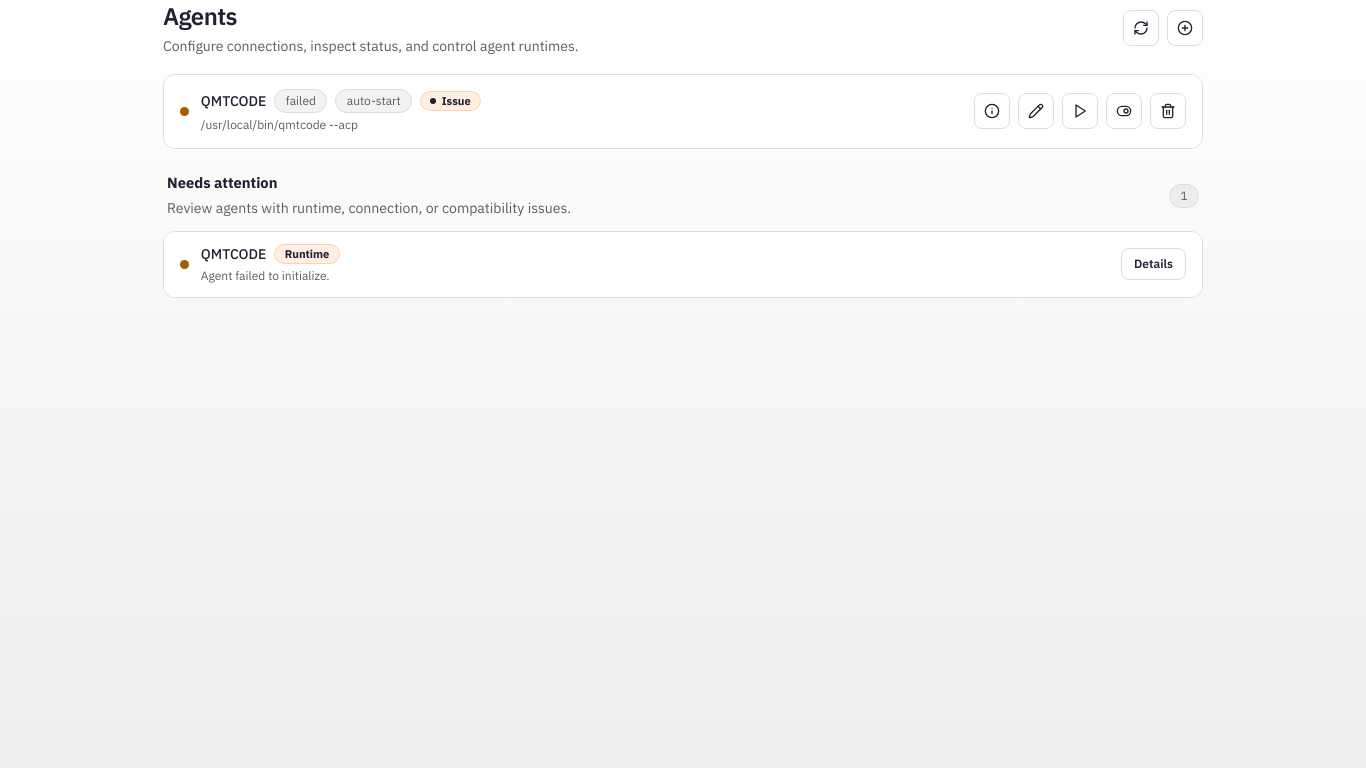
Scenario: Agents page › shows unique actionable diagnostics when ACP control is failing
Expected: the element with class "status-dot-degraded" below "auto-start" is shown, [180,107,189,116]
Click the button named "Details for QMTCODE" at (992, 111), box [974,93,1010,129]
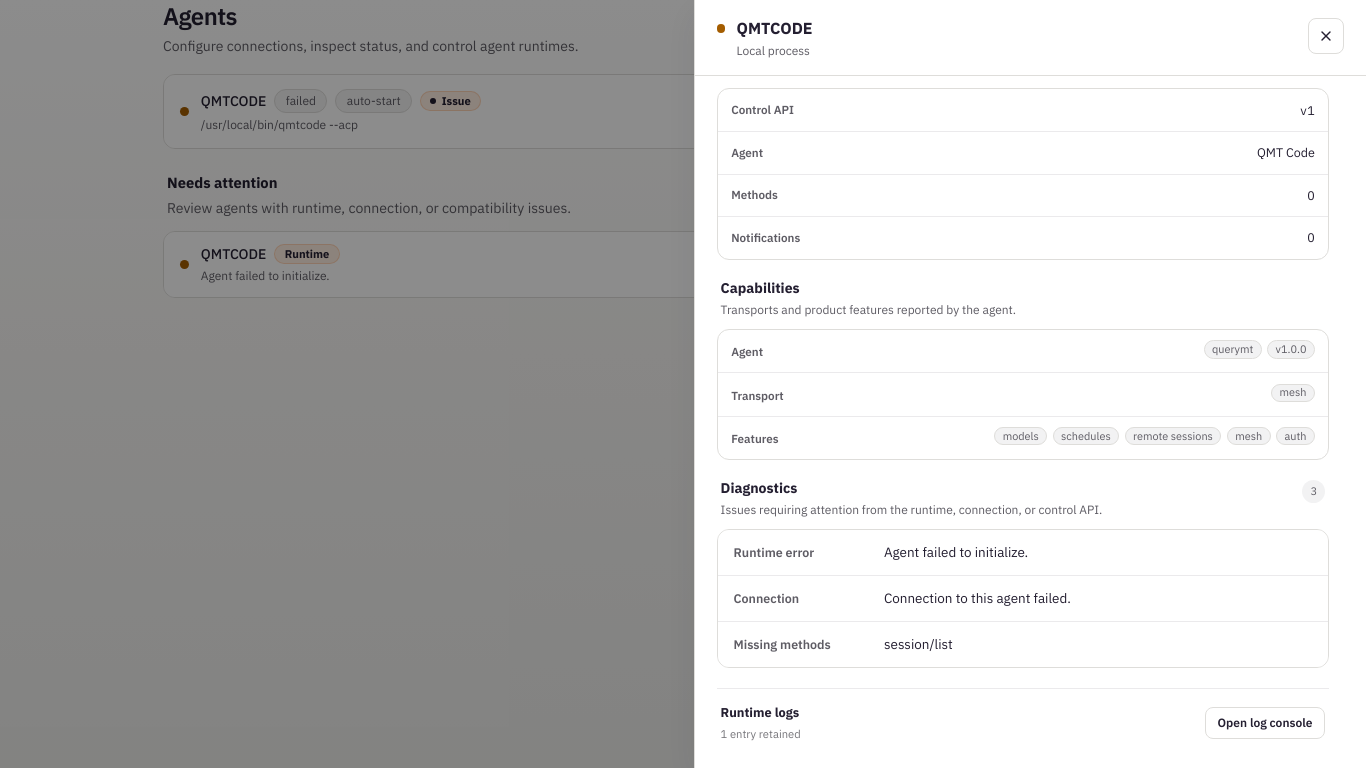
Expected: the heading "Diagnostics" is shown, [721,479,797,497]
Expected: the text "Agent failed to initialize." is shown once, [884,543,1028,562]
Expected: the text "Connection to this agent failed." is shown, [884,589,1071,608]
